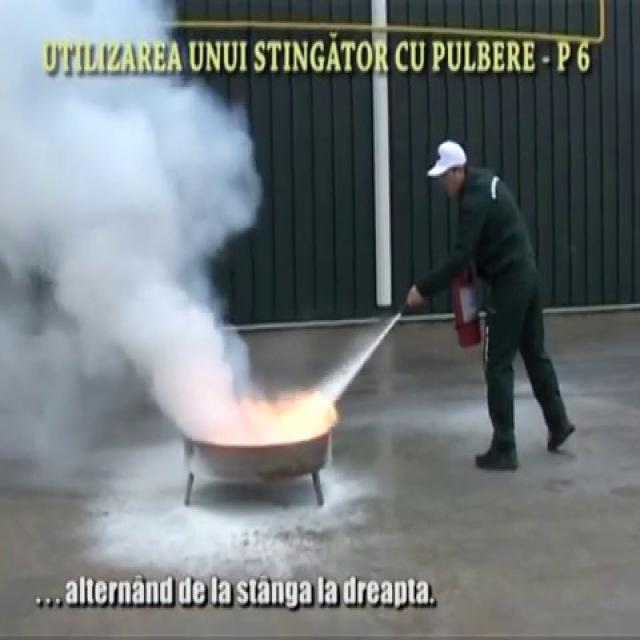Smoke: (0, 0, 296, 443)
